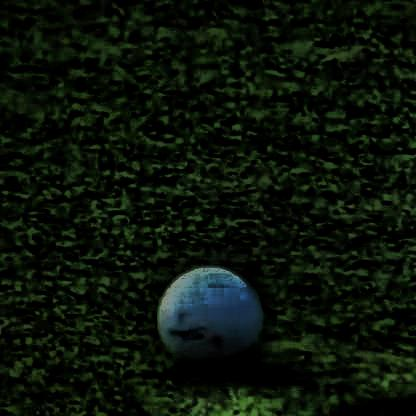golfball: (154, 265, 260, 367)
